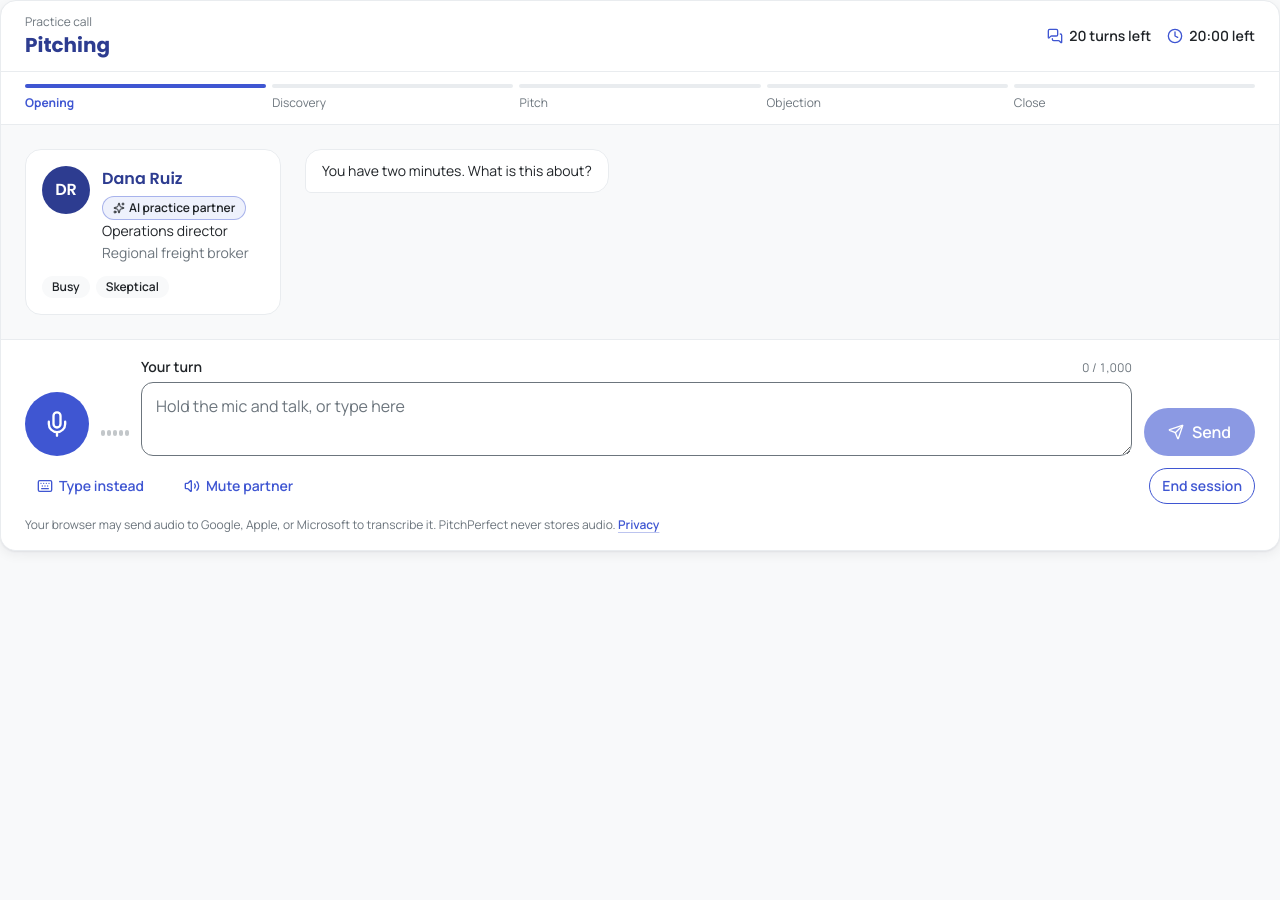
Test: PracticeRoom › ends after a confirm and shows the scorecard
Step 1. Click the button "End session" → (1202, 486), box left=1149, top=468, right=1255, bottom=504
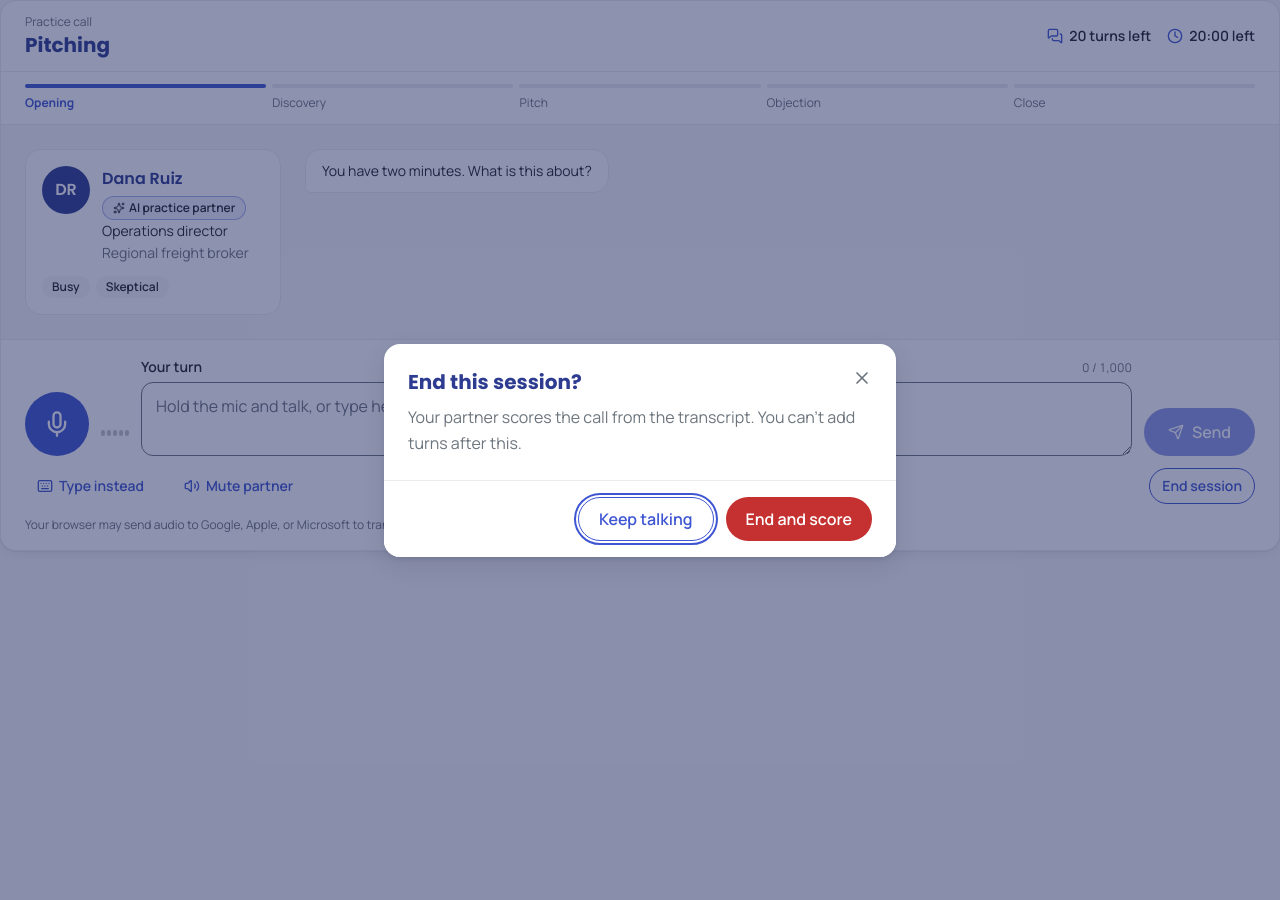
Step 2. Click the button "End and score" → (799, 518), box left=726, top=496, right=872, bottom=540
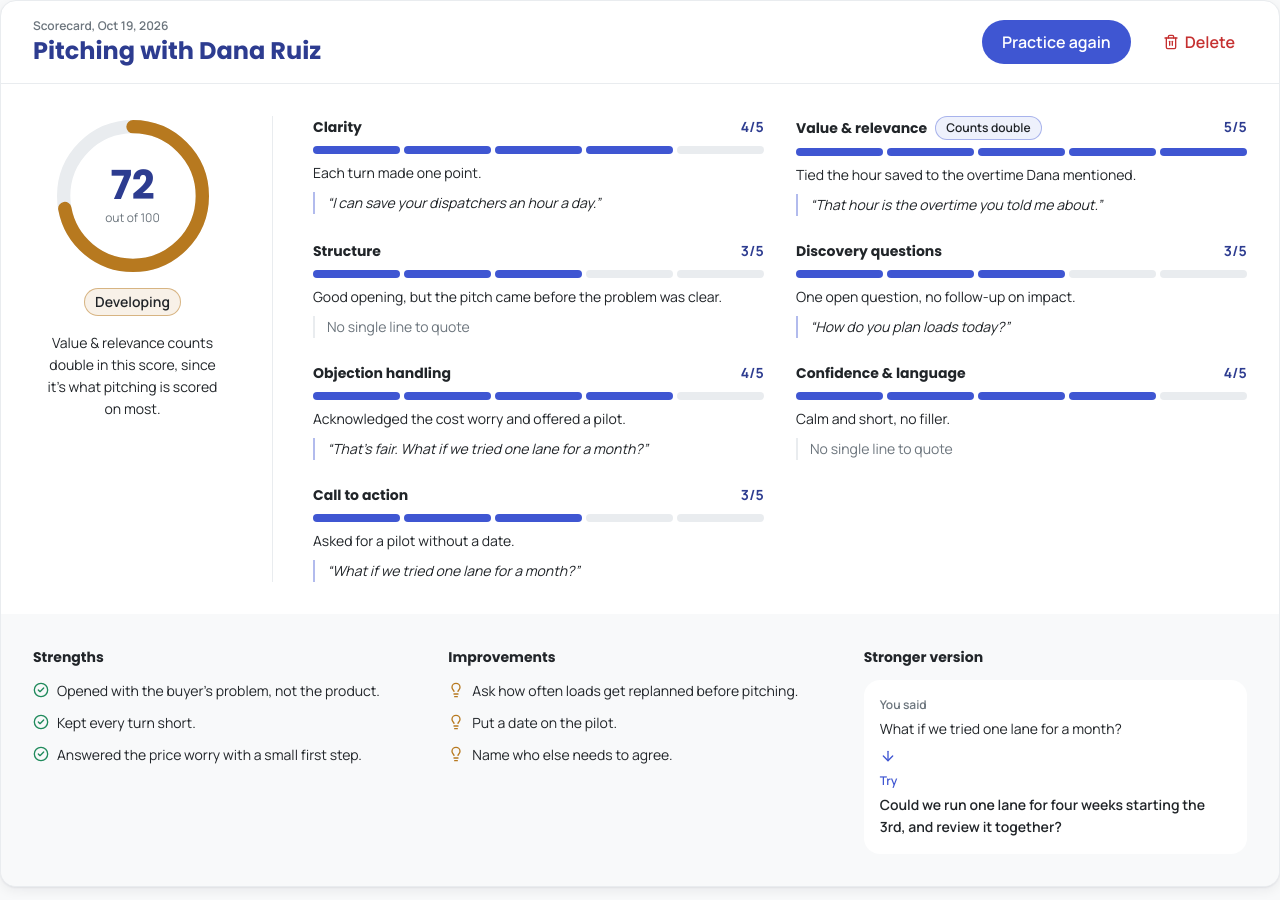
Expected: the picture named "Overall score: 72 out of 100" is shown, left=52, top=116, right=212, bottom=316
